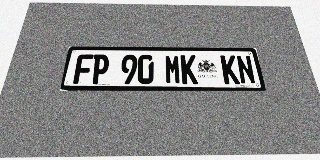0: (137, 55, 153, 84)
9: (120, 55, 138, 84)
F: (73, 54, 94, 84)
K: (220, 55, 240, 84), (180, 55, 198, 84)
M: (165, 55, 181, 84)
N: (235, 55, 256, 84)
P: (90, 54, 110, 84)
